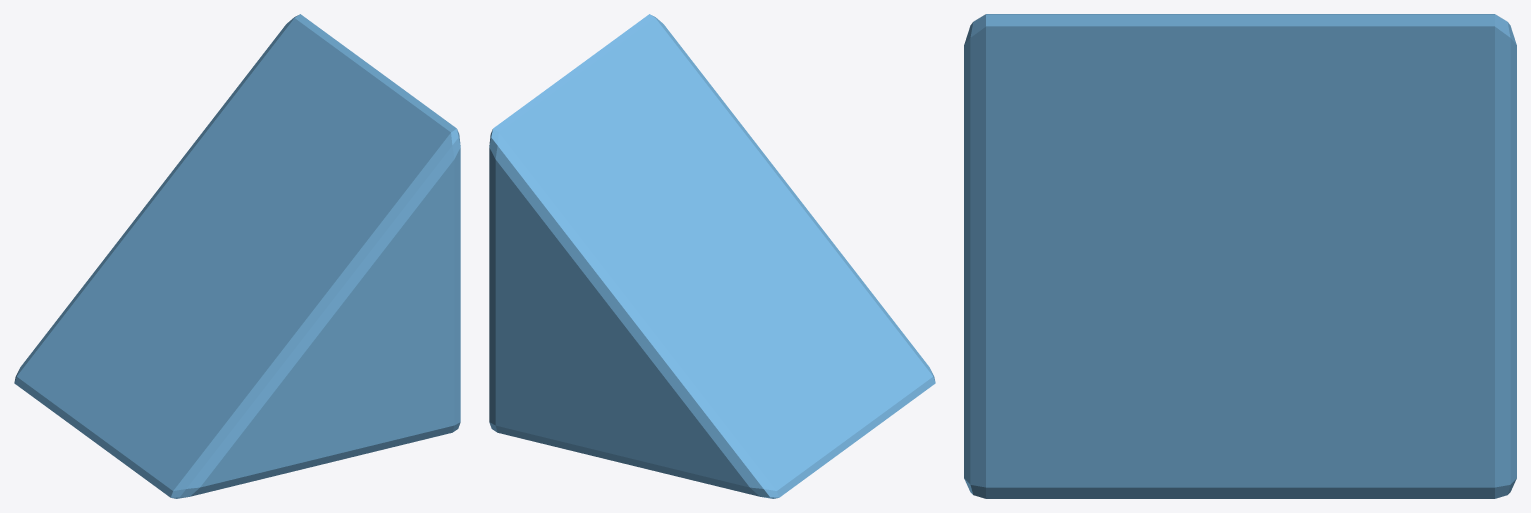
The model's file is block_triangleSmall.fbx.
3 views of the same model, side by side, from view 1: azimuth 30°, elevation 25°; view 2: azimuth 150°, elevation 25°; view 3: azimuth 270°, elevation 25° (orthographic). The views are drawn at different scales.
Parts seen in each view (by area): view 1: TriangleSmall; view 2: TriangleSmall; view 3: TriangleSmall.
Boxes of the visible parts, x1,y1,x2,y2 form: TriangleSmall: (14,14,460,498); TriangleSmall: (489,14,935,498); TriangleSmall: (964,14,1516,498).
Bounding box in the file's own units: 49 × 49 × 50.
